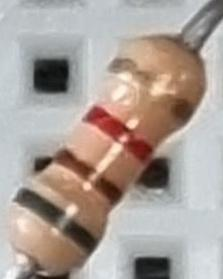Brown: (51, 143, 128, 212)
Green: (11, 180, 103, 262)
Red: (77, 98, 160, 172)
Side-Gold: (104, 54, 201, 127)
